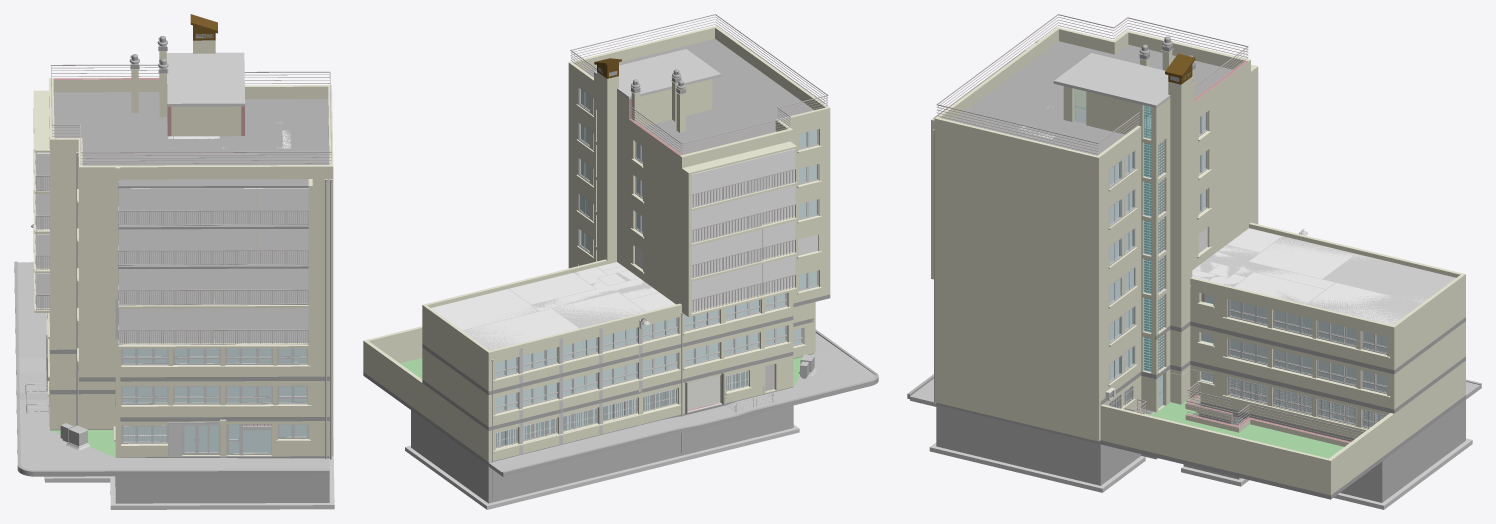
File: MAP.gltf
The picture shows the model from 3 angles, left to right: view 1: azimuth 30°, elevation 25°; view 2: azimuth 150°, elevation 25°; view 3: azimuth 270°, elevation 25°; orthographic projection. The views are drawn at different scales.
Parts seen in each view (by area): view 1: 2bFMCFmkj1kfWO5Lvqt__E, 1zCZNx5CT1i8Y9$_dU9fMm, 2Ho69CgZjAaegzBJCqruB0, 2Ho69CgZjAaegzBJCqruAt, 0dWoULYUH3zPg8qJ$TnRTP, 0dWoULYUH3zPg8sJxTnRgm, 313IdYHbv0JwPbnB6B727$, 0JJqPutQD7fgEmZfe5WIOV, 3cIPhvAJD1BBz83X3jDAzZ, 0dWoULYUH3zPg8qJZTnRTP, 2Ho69CgZjAaegzBJCqruAP, 3cIPhvAJD1BBz83X3jDAzi (+74 smaller); view 2: 2bFMCFmkj1kfWO5Lvqt__E, 1T2hYTZj1EsBZaf4hQmbXu, 3RLTfSMBXE_BWgA7WbvgjJ, 2Ho69CgZjAaegzBJCqruAg, 2Ho69CgZjAaegzBJCqruB3, 3DqaVQ6kHD0OxL53K19wrB, 04Zj82bz96WhfKErdD6QSF, 1T2hYTZj1EsBZaf4hQmbWV, 0JJqPutQD7fgEmZfe5WIOV, 313IdYHbv0JwPbnB6B727$, 1IQJpSU49DlPKPMYhdab44, 3DqaVQ6kHD0OxL53K19wr6 (+69 smaller); view 3: 2bFMCFmkj1kfWO5Lvqt__E, 3RLTfSMBXE_BWgA7Wbvgs$, 1IQJpSU49DlPKPMYhdab44, 1zCZNx5CT1i8Y9$_dU9fLy, 321EIHH0v8KOO2s9NjdAGp, 321EIHH0v8KOO2s9RjdAGp, 321EIHH0v8KOO2s93jdAGp, 321EIHH0v8KOO2s97jdAGp, 321EIHH0v8KOO2s9JjdAGp, 321EIHH0v8KOO2s9FjdAGp, 321EIHH0v8KOO2s9BjdAGp, 3RLTfSMBXE_BWgA7WbvgjJ (+48 smaller).
Part boxes in pixels (x1,y1,x2,y2): 2bFMCFmkj1kfWO5Lvqt__E: [53, 92, 329, 165]; 1zCZNx5CT1i8Y9$_dU9fMm: [115, 476, 325, 503]; 2Ho69CgZjAaegzBJCqruB0: [118, 188, 256, 224]; 2Ho69CgZjAaegzBJCqruAt: [118, 221, 256, 264]; 0dWoULYUH3zPg8qJ$TnRTP: [83, 337, 329, 377]; 0dWoULYUH3zPg8sJxTnRgm: [120, 381, 329, 417]; 313IdYHbv0JwPbnB6B727$: [166, 52, 245, 106]; 0JJqPutQD7fgEmZfe5WIOV: [19, 399, 115, 470]; 3cIPhvAJD1BBz83X3jDAzZ: [118, 300, 214, 343]; 0dWoULYUH3zPg8qJZTnRTP: [83, 165, 329, 179]; 2Ho69CgZjAaegzBJCqruAP: [214, 264, 308, 303]; 3cIPhvAJD1BBz83X3jDAzi: [214, 303, 308, 343]; 2bFMCFmkj1kfWO5Lvqt__E: [585, 38, 813, 154]; 1T2hYTZj1EsBZaf4hQmbXu: [491, 405, 793, 502]; 3RLTfSMBXE_BWgA7WbvgjJ: [365, 341, 486, 460]; 2Ho69CgZjAaegzBJCqruAg: [691, 181, 795, 241]; 2Ho69CgZjAaegzBJCqruB3: [691, 149, 795, 206]; 3DqaVQ6kHD0OxL53K19wrB: [463, 308, 582, 376]; 04Zj82bz96WhfKErdD6QSF: [570, 14, 828, 153]; 1T2hYTZj1EsBZaf4hQmbWV: [411, 410, 491, 503]; 0JJqPutQD7fgEmZfe5WIOV: [738, 348, 875, 410]; 313IdYHbv0JwPbnB6B727$: [594, 49, 721, 99]; 1IQJpSU49DlPKPMYhdab44: [462, 266, 658, 350]; 3DqaVQ6kHD0OxL53K19wr6: [431, 289, 538, 330]; 2bFMCFmkj1kfWO5Lvqt__E: [952, 41, 1232, 155]; 3RLTfSMBXE_BWgA7Wbvgs$: [1100, 404, 1332, 495]; 1IQJpSU49DlPKPMYhdab44: [1190, 232, 1455, 324]; 1zCZNx5CT1i8Y9$_dU9fLy: [936, 405, 1102, 485]; 321EIHH0v8KOO2s9NjdAGp: [934, 324, 1100, 402]; 321EIHH0v8KOO2s9RjdAGp: [934, 363, 1100, 441]; 321EIHH0v8KOO2s93jdAGp: [934, 130, 1100, 208]; 321EIHH0v8KOO2s97jdAGp: [934, 169, 1100, 247]; 321EIHH0v8KOO2s9JjdAGp: [934, 285, 1100, 363]; 321EIHH0v8KOO2s9FjdAGp: [934, 246, 1100, 324]; 321EIHH0v8KOO2s9BjdAGp: [934, 208, 1100, 285]; 3RLTfSMBXE_BWgA7WbvgjJ: [1329, 362, 1463, 493].
Bounding box in the file's own units: 32.78 × 28.19 × 37.66.
